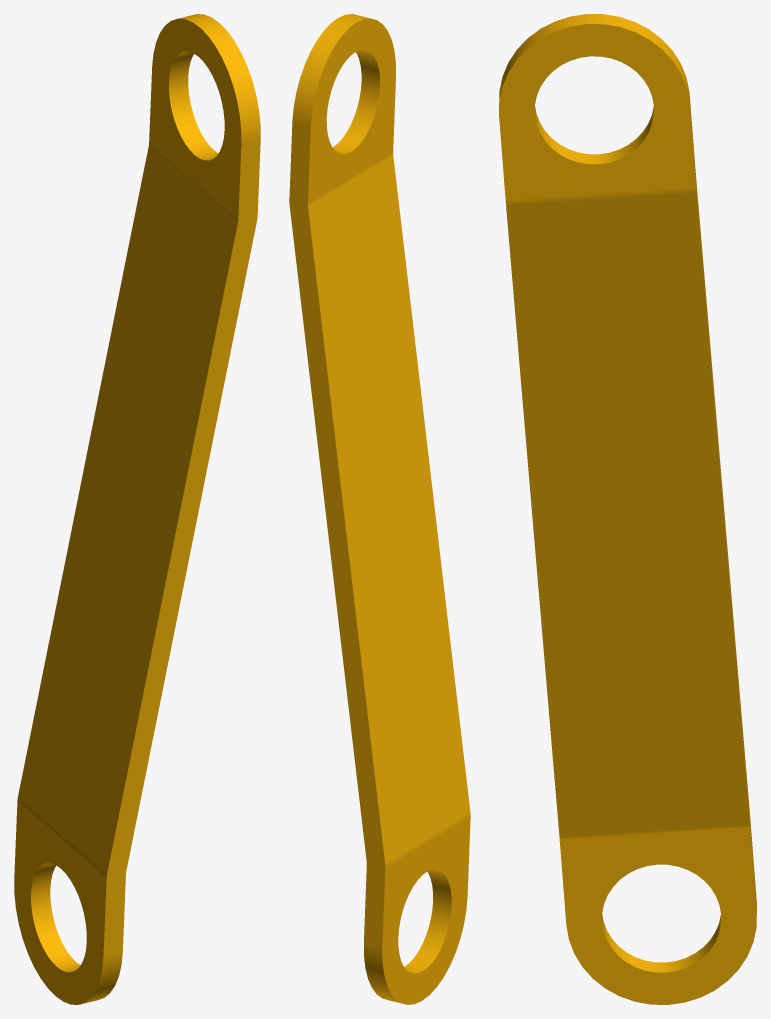
The picture shows the model from 3 angles, left to right: view 1: azimuth 30°, elevation 25°; view 2: azimuth 150°, elevation 25°; view 3: azimuth 270°, elevation 25°; orthographic projection. The views are drawn at different scales.
Visible parts, largest first — view 1: Part 15; view 2: Part 15; view 3: Part 15.
Boxes of the visible parts, bbox=[...] form: Part 15: bbox=[14, 14, 260, 1004]; Part 15: bbox=[289, 14, 470, 1004]; Part 15: bbox=[499, 14, 756, 1004].
Size of what is drawn, in the model's own units: 0.0206 by 0.152 by 0.0343.
